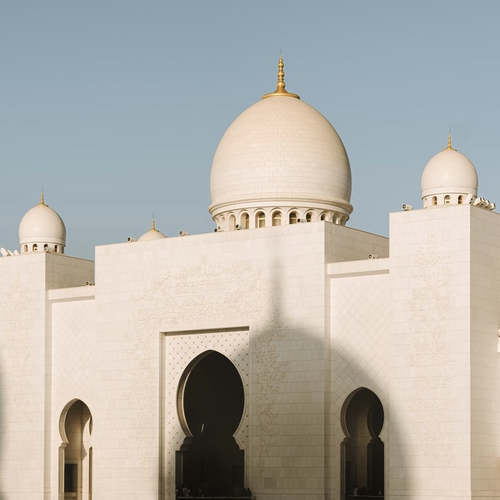Mosque: (10, 58, 491, 494)
